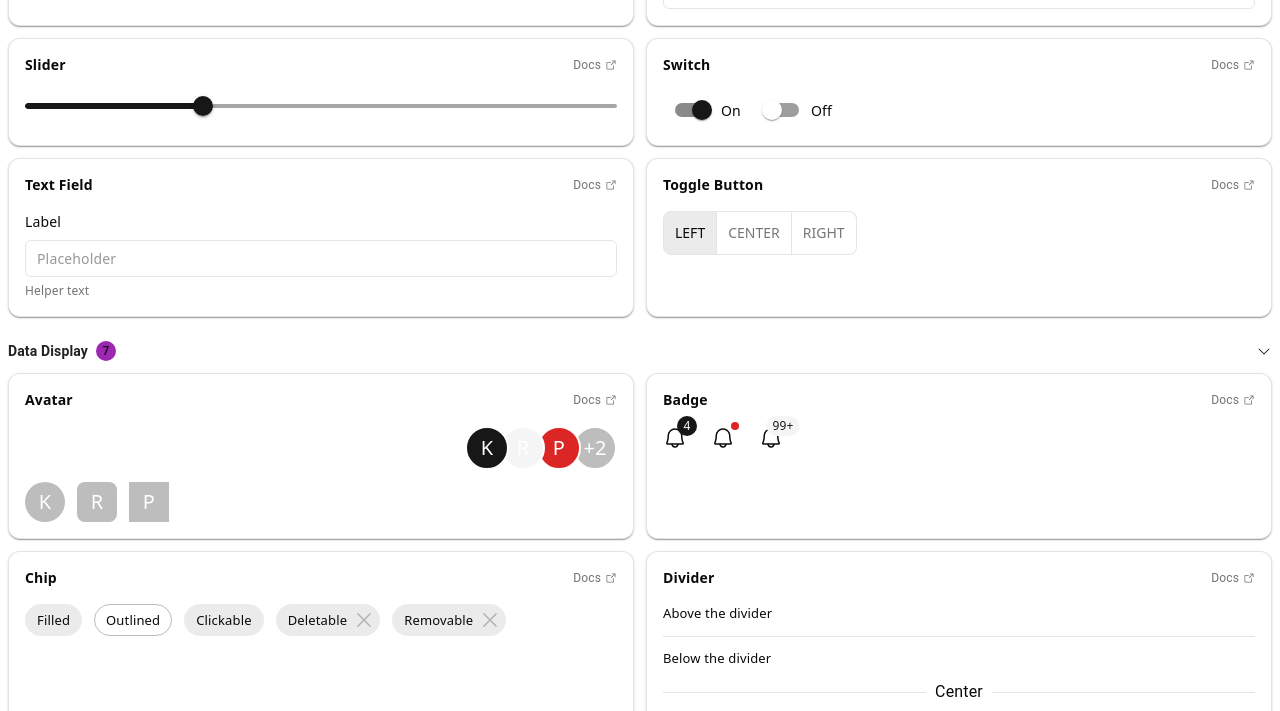
Test case: PreviewArea Data Display section › collapses and expands the Data Display section from its header
(page scrolled)
Click the text "Data Display": (48, 351) x1=8 y1=341 x2=88 y2=361
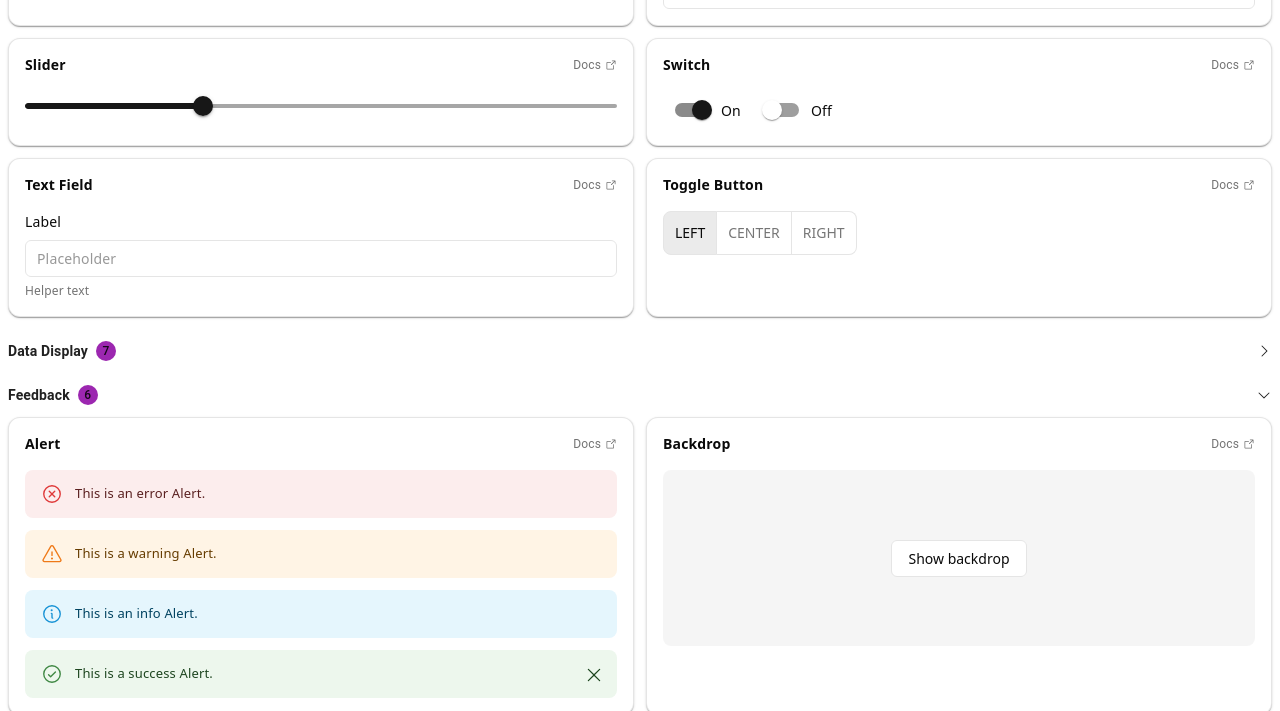
expect the text "Text Field" is shown: met, box x1=25 y1=175 x2=93 y2=195
expect the text "Chip" is gone: met
Click the text "Data Display": (48, 351) x1=8 y1=341 x2=88 y2=361
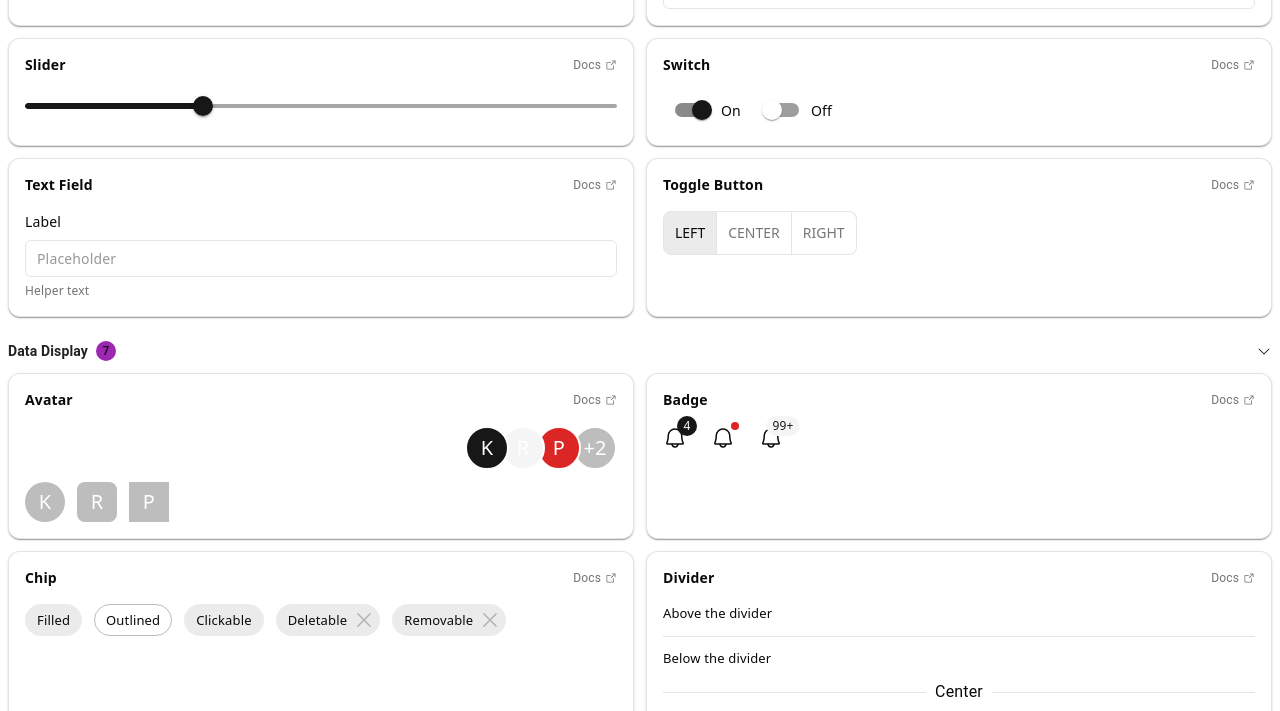
expect the text "Chip" is shown: met, box x1=25 y1=568 x2=57 y2=588
